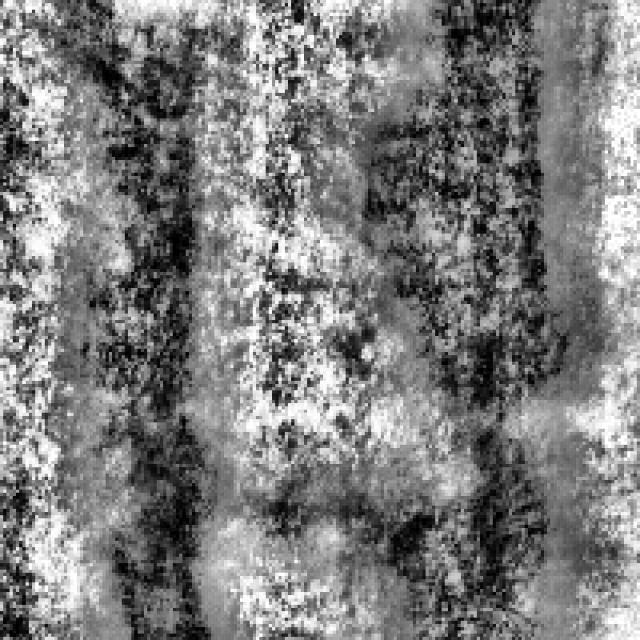Scratches: (358, 0, 579, 406), (67, 39, 218, 630), (336, 426, 582, 634)
